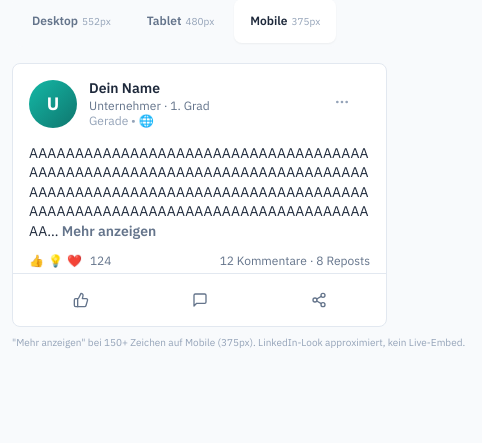
PostPreview › expands text on Mehr anzeigen click
Click the button "Mehr anzeigen": (109, 231) top-left (62, 221), bottom-right (156, 241)
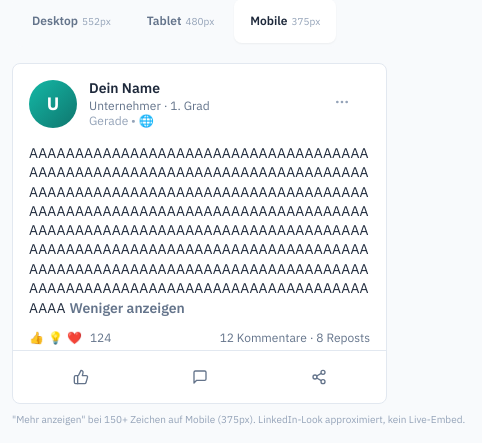
Check: the button "Weniger anzeigen" is shown, box top-left (70, 298), bottom-right (185, 318)
